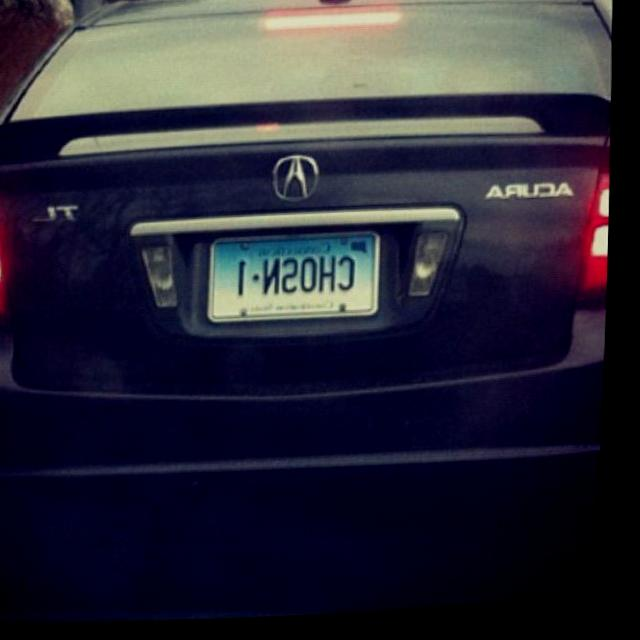License_Plate: (192, 221, 388, 336)
